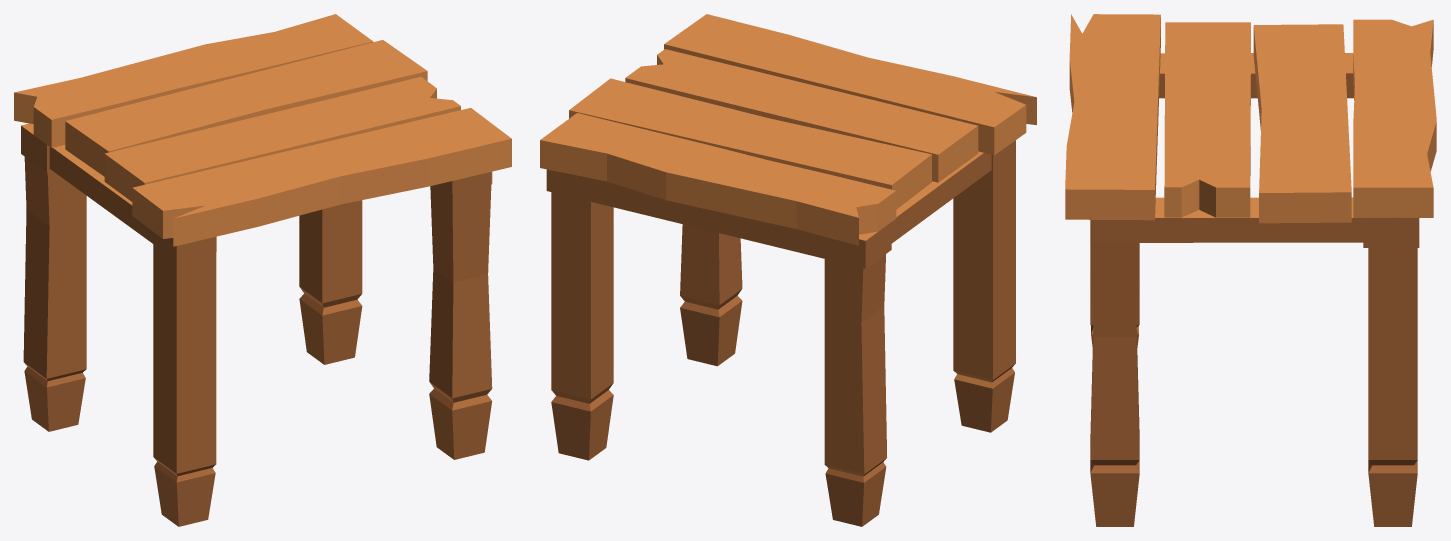
File: Table Model.fbx
3 views of the same model, side by side, from view 1: azimuth 30°, elevation 25°; view 2: azimuth 150°, elevation 25°; view 3: azimuth 270°, elevation 25° (orthographic). The views are drawn at different scales.
Visible parts, largest first — view 1: Cube.007; view 2: Cube.007; view 3: Cube.007.
Part boxes in pixels (x1,y1,x2,y2): Cube.007: (14,14,511,526); Cube.007: (540,14,1036,526); Cube.007: (1065,14,1436,526).
Bounding box in the file's own units: 245 × 220 × 215.
